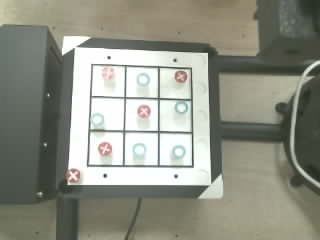blue circle: (91, 113, 104, 127), (172, 145, 185, 158), (137, 73, 149, 86), (175, 101, 188, 113), (133, 143, 145, 156)
board: (65, 47, 214, 185)
cells: (89, 132, 122, 165), (125, 133, 157, 165), (159, 134, 191, 166), (90, 98, 123, 129), (125, 99, 157, 130), (160, 100, 191, 131), (92, 66, 124, 96), (160, 68, 191, 98), (126, 67, 157, 97)
grid: (87, 64, 193, 167)
red cross: (65, 168, 80, 182), (137, 104, 151, 118), (98, 142, 111, 155), (102, 67, 114, 79), (175, 71, 187, 82)
